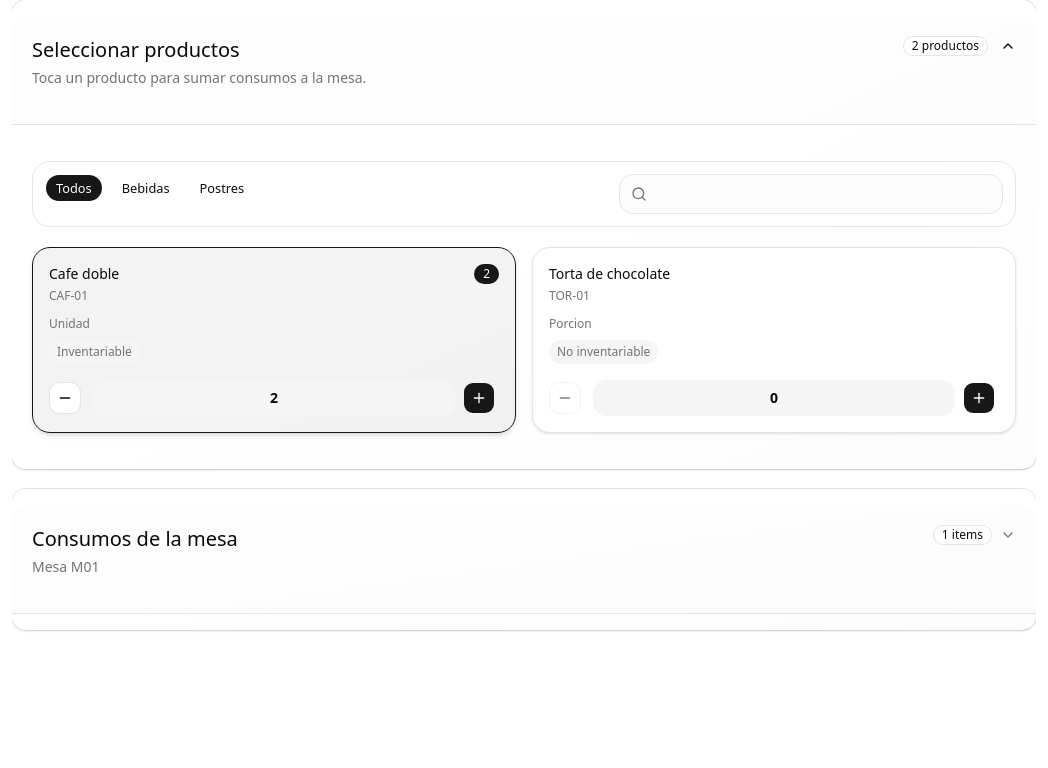
Scenario: TableOrderWorkspace › switches from the catalog to the order panel
This screenshot has width=1048, height=768.
Click the button "Consumos de la mesa Mesa M01 1 items". click: x=135, y=538
box: 12,505 -> 1036,597
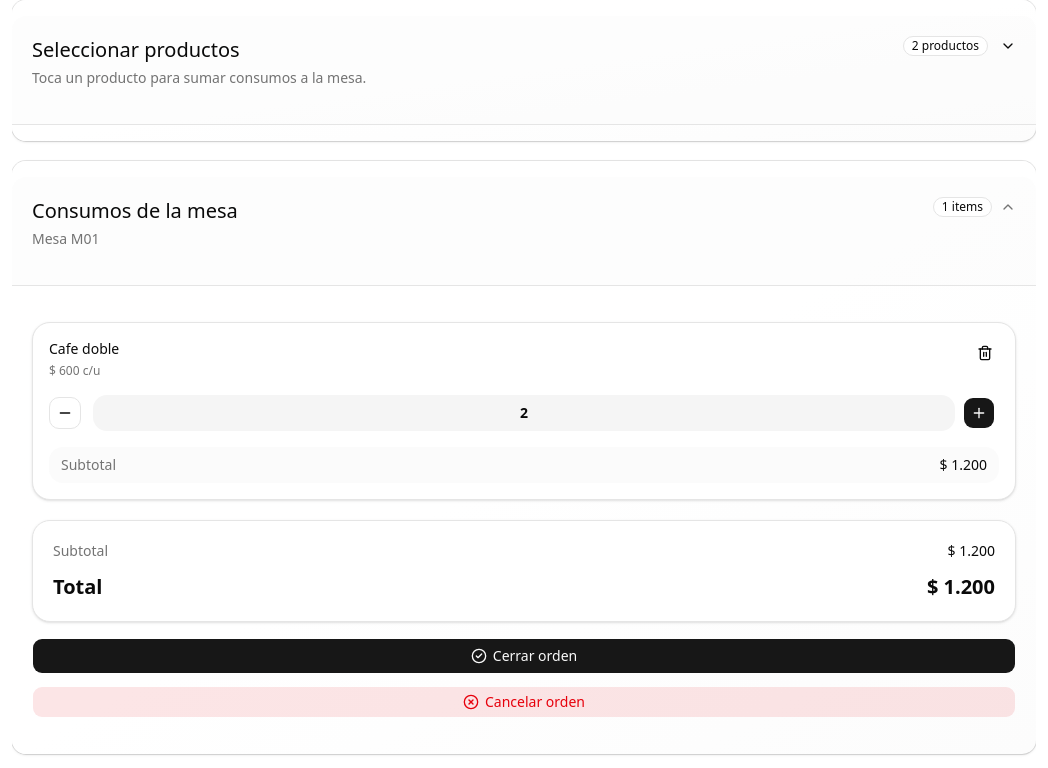
Expected: the text "Subtotal" is shown 2 times, 61,455 -> 116,475; 53,541 -> 108,561
Expected: the button "Cerrar orden" is shown, 32,638 -> 1016,674
Expected: the button "Seleccionar productos" is collapsed, 12,16 -> 1036,108
